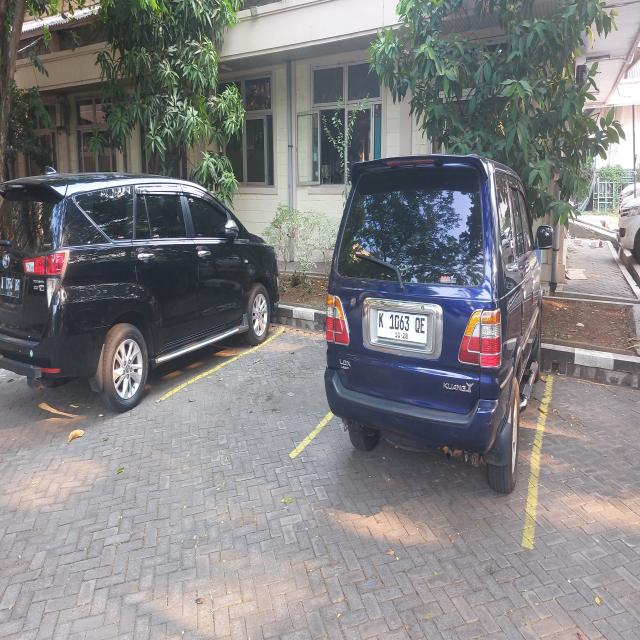empty: (159, 325, 331, 453), (526, 375, 640, 564)
occupied: (290, 156, 549, 544), (0, 174, 290, 423)
